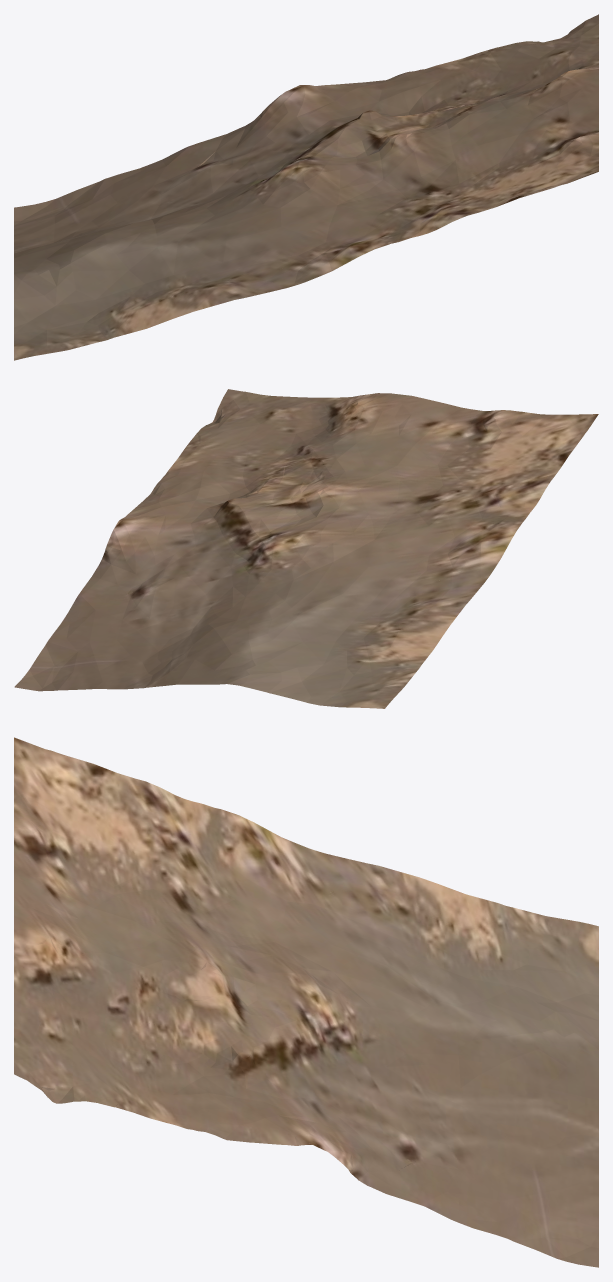
3 views of the same model, one above another, from view 1: azimuth 90°, elevation 25°; view 2: azimuth 150°, elevation 25°; view 3: azimuth 270°, elevation 25° (orthographic). The views are drawn at different scales.
Size of the model in its own units: 1.04 by 0.5576 by 1.04.
2 materials, 2 textured.
